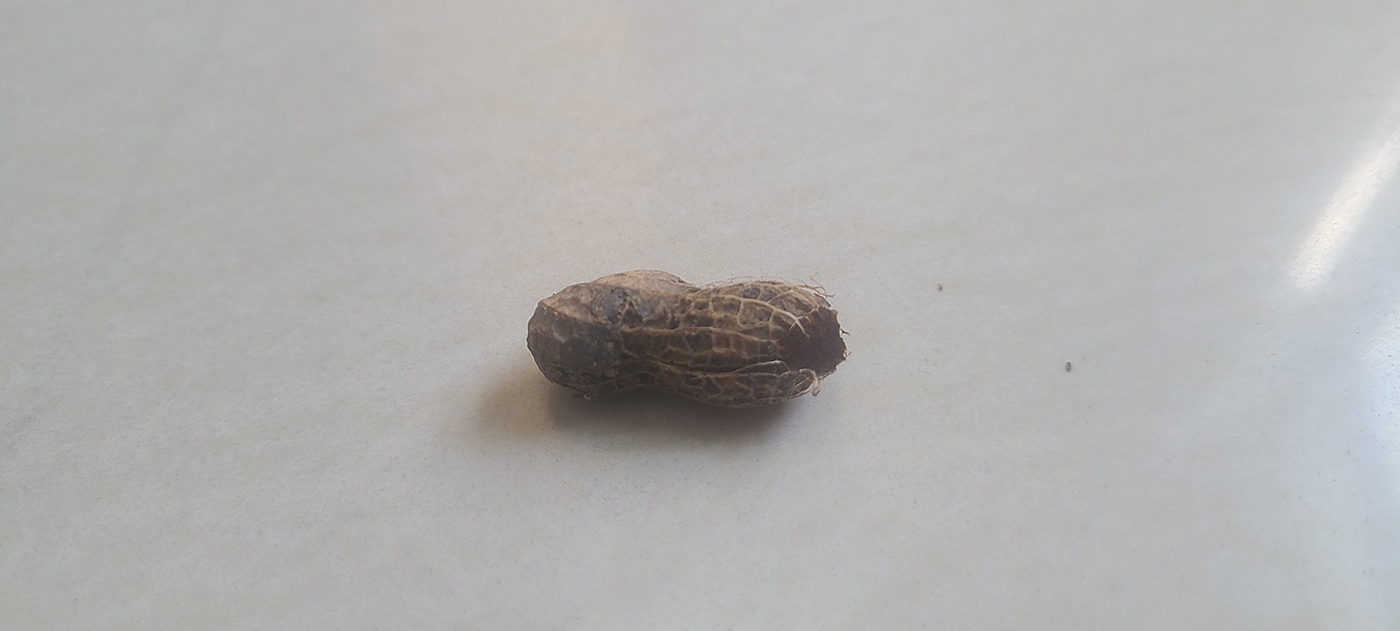l: (526, 268, 850, 407)
